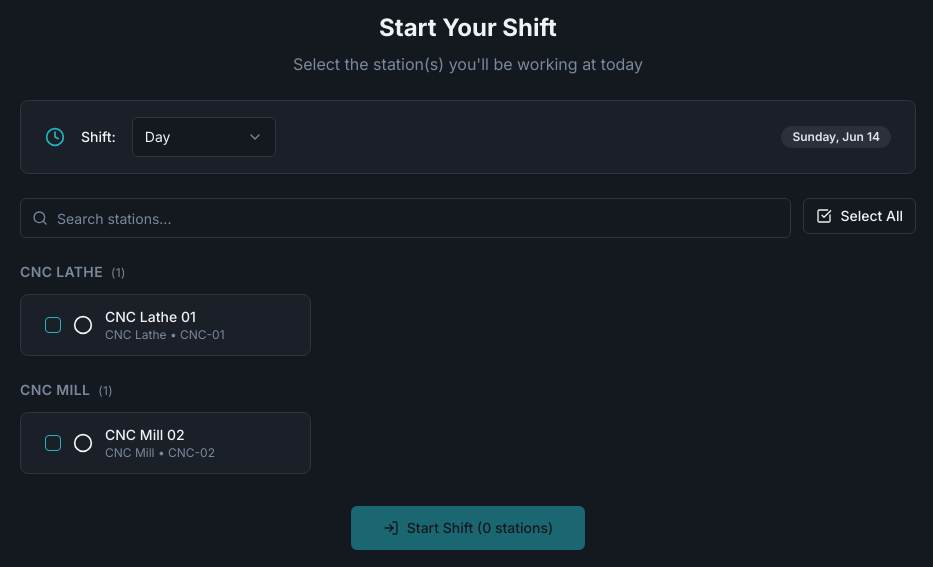
StationCheckIn › filters stations by search query
Step 1. Type "Mill" into the field with placeholder "Search stations..." → (406, 218), box 20,198 -> 791,238
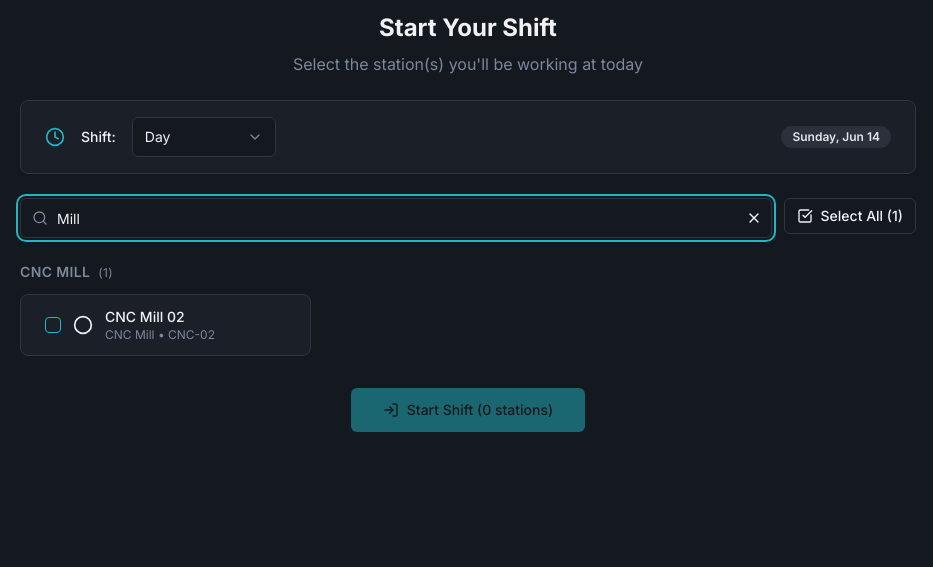
expect the text "CNC Mill 02" is shown: met, box 105,308 -> 185,325
expect the checkbox "CNC Lathe 01" is gone: met
